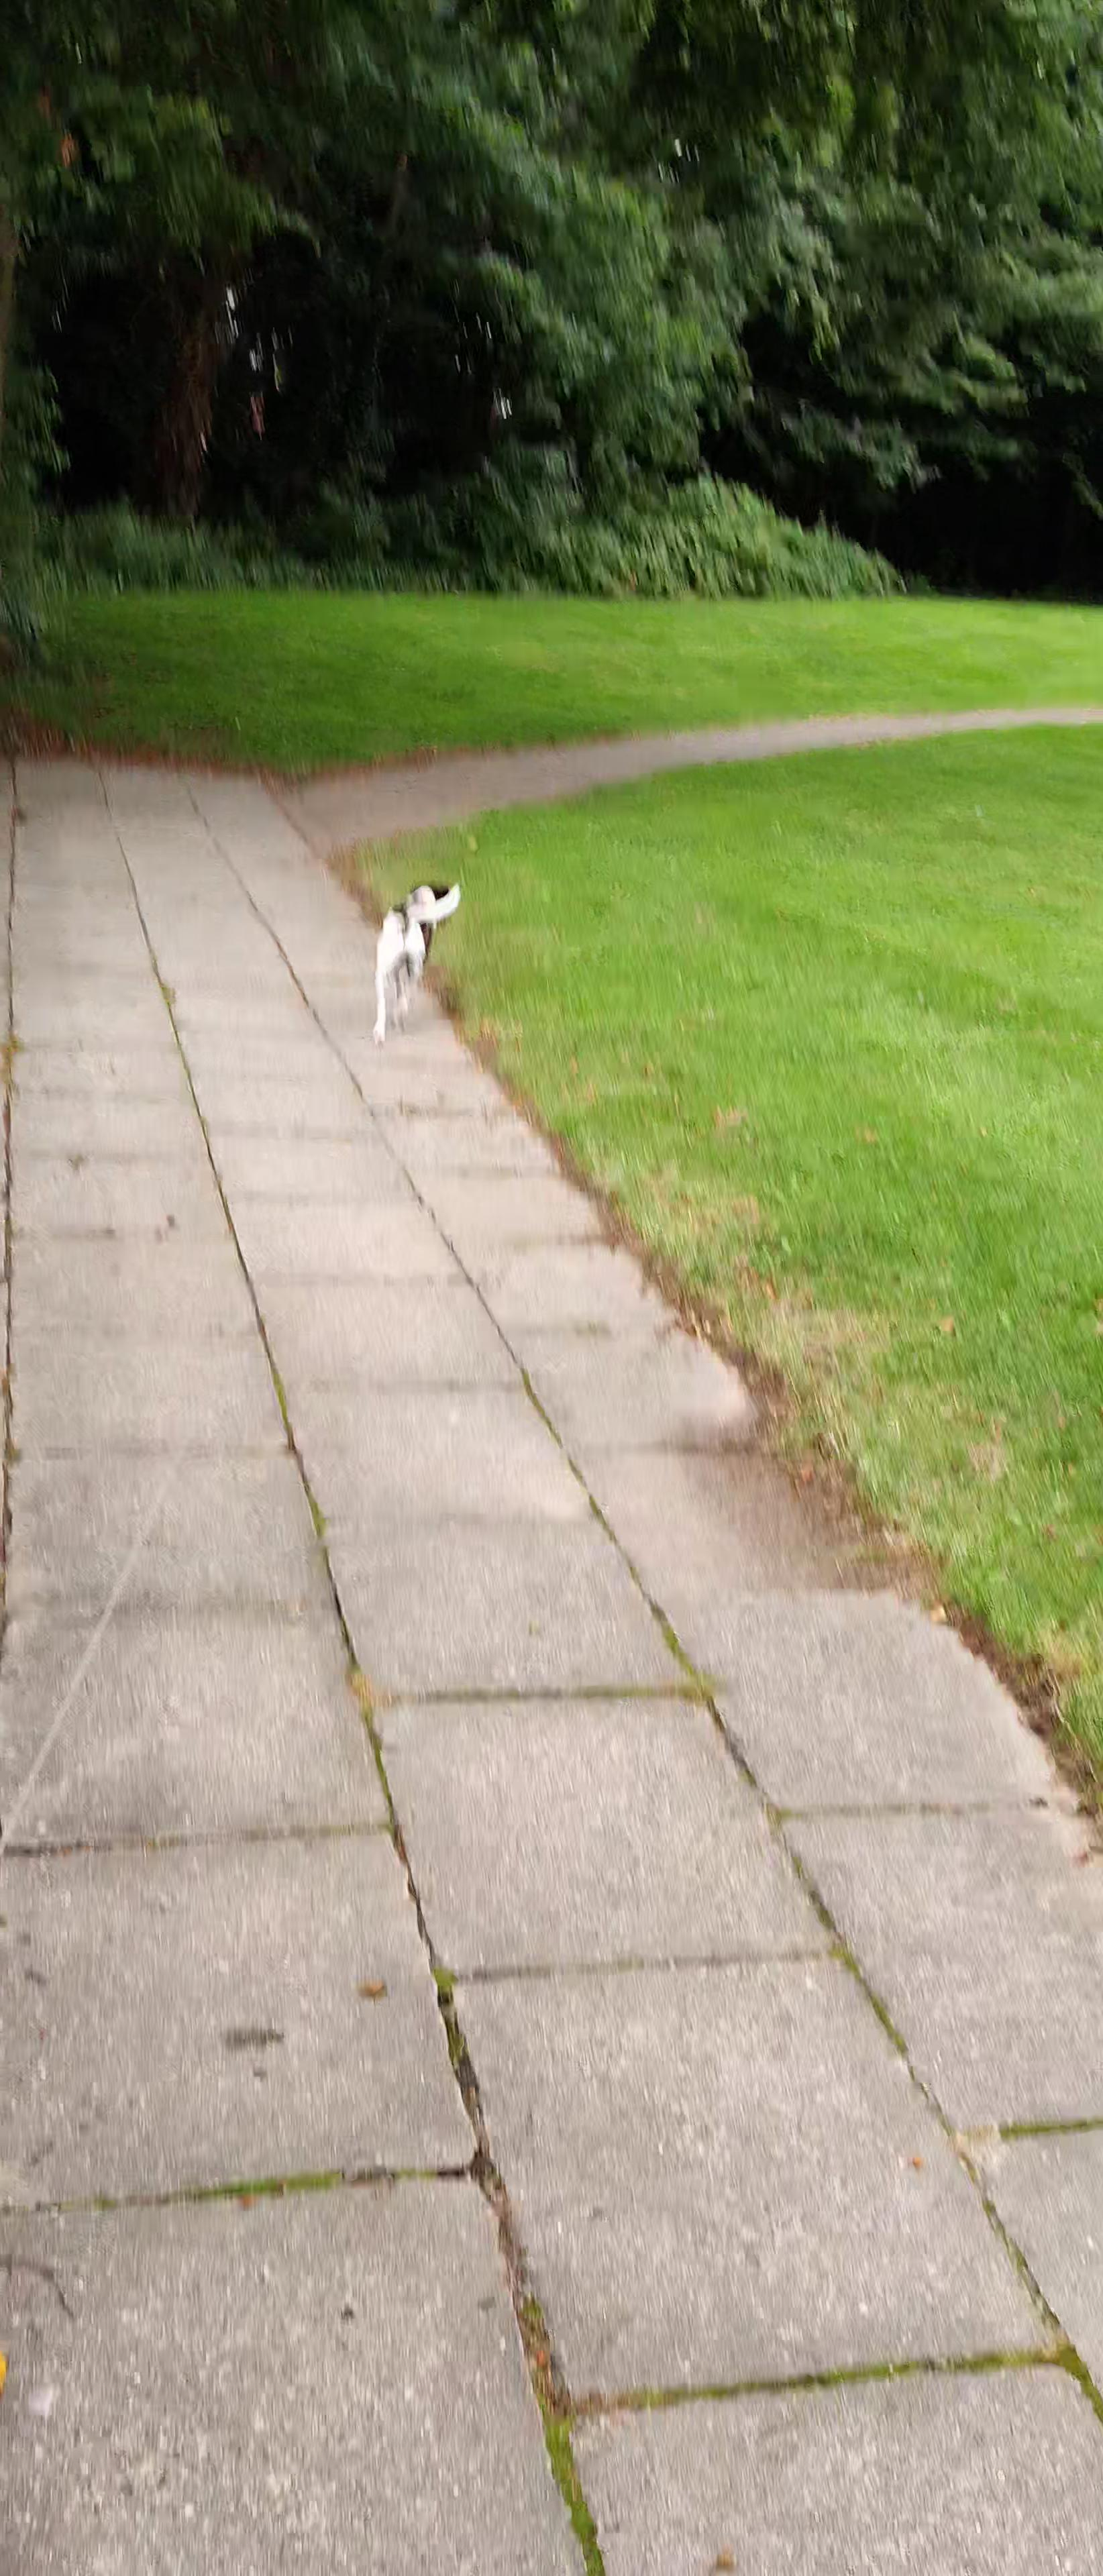Dog: (344, 867, 480, 1051)
